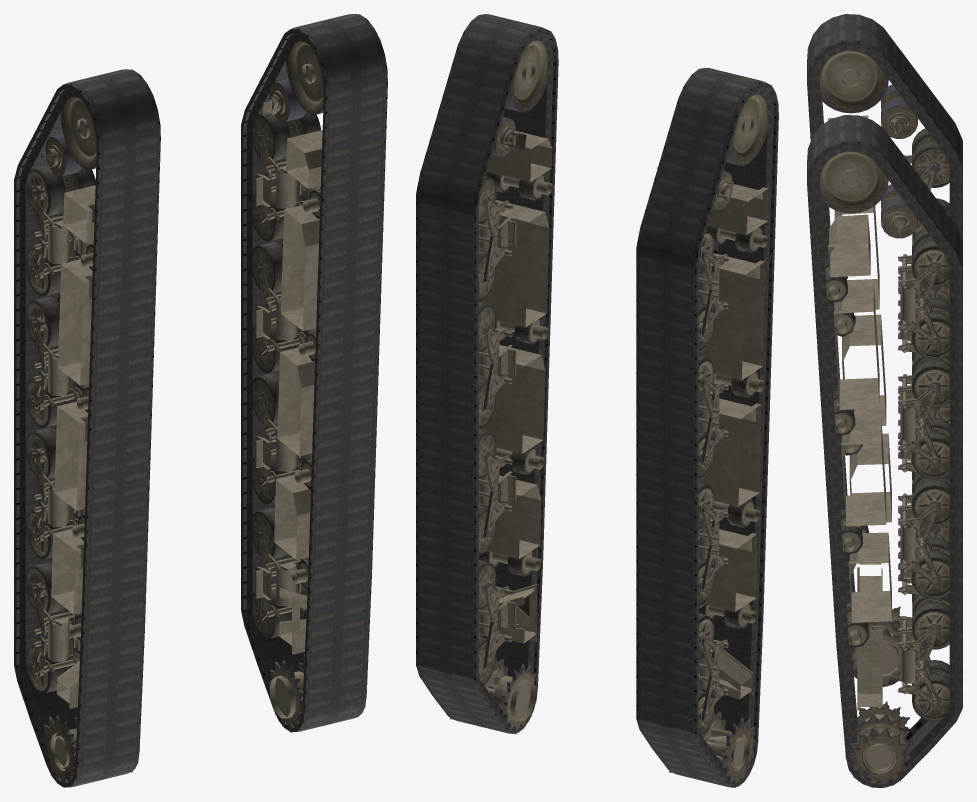
Rendered from Chassis.glb.
The picture shows the model from 3 angles, left to right: view 1: azimuth 30°, elevation 25°; view 2: azimuth 150°, elevation 25°; view 3: azimuth 270°, elevation 25°; orthographic projection. The views are drawn at different scales.
Parts seen in each view (by area): view 1: set_1_group_0, set_0_group_0, set_3_group_0, set_5_group_0, set_4_group_0, set_2_group_0; view 2: set_1_group_0, set_0_group_0, set_3_group_0, set_5_group_0, set_2_group_0, set_4_group_0; view 3: set_3_group_0, set_0_group_0, set_5_group_0, set_1_group_0, set_2_group_0, set_4_group_0.
Part boxes in pixels (box(x1,y1,x2,y2)): set_1_group_0: box(14, 69, 160, 787); set_0_group_0: box(241, 14, 387, 731); set_3_group_0: box(252, 41, 365, 732); set_5_group_0: box(26, 96, 139, 787); set_4_group_0: box(30, 182, 80, 675); set_2_group_0: box(257, 127, 306, 620); set_1_group_0: box(636, 67, 778, 787); set_0_group_0: box(416, 14, 558, 733); set_3_group_0: box(450, 40, 552, 734); set_5_group_0: box(657, 94, 768, 787); set_2_group_0: box(478, 196, 508, 667); set_4_group_0: box(698, 250, 727, 722); set_3_group_0: box(820, 151, 949, 783); set_0_group_0: box(807, 115, 962, 787); set_5_group_0: box(820, 50, 949, 686); set_1_group_0: box(807, 14, 962, 686); set_2_group_0: box(898, 255, 939, 707); set_4_group_0: box(898, 155, 939, 594).
Bounding box in the file's own units: 3.09 × 7.17 × 1.57.
6 materials, 6 textured.
